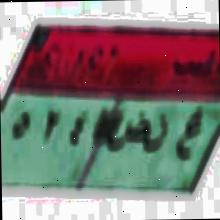2: (42, 104, 61, 153)
4: (68, 108, 88, 157)
5: (10, 107, 32, 142)
daad: (108, 110, 148, 164)
ghayn: (174, 100, 204, 176)
noon: (144, 112, 172, 152)
